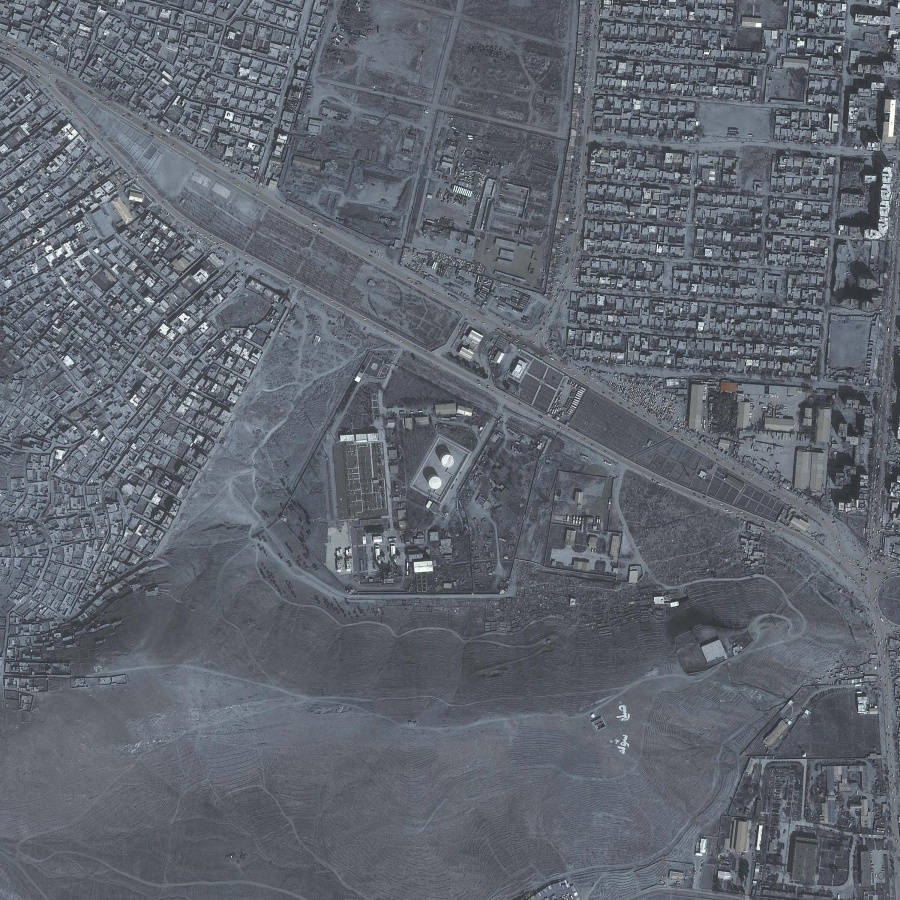PowerPlant: (335, 396, 478, 587)
